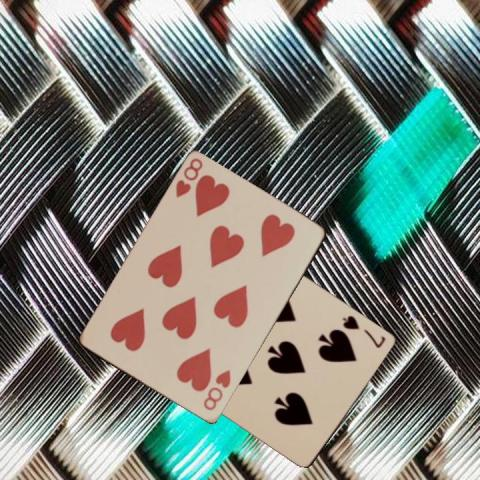7s: (340, 312, 387, 349)
8h: (200, 366, 233, 412), (172, 156, 205, 200)
